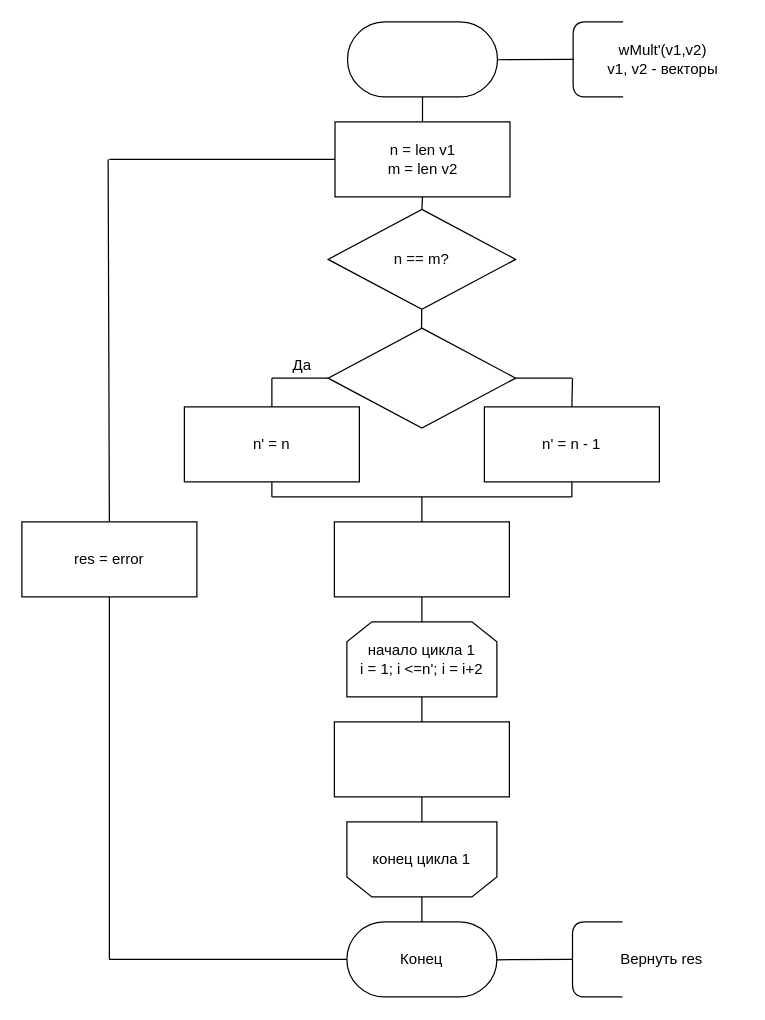
This 765x1020 diagram has some shape labels left out. The centre of each missing label's shape, as x and y in pixels:
"n % 2 == 0?" belongs at (421,377).
"res += ((v1[i] + v[i+1])* (v1[i+1] + v[i]))" belongs at (421,759).
"res = 0" belongs at (421,559).
"Начало" belongs at (422,59).
